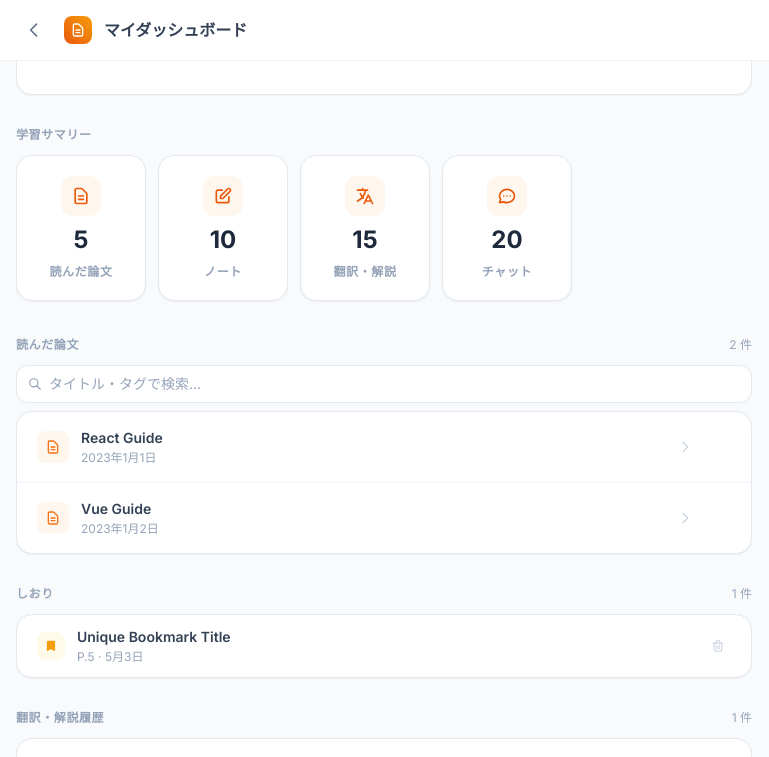
it: Dashboard Page › filters papers based on search input
(page scrolled)
Expected: the text "React Guide" is shown, [81, 429, 163, 446]
Expected: the text "Vue Guide" is shown, [81, 500, 151, 517]
In the field with placeholder "タイトル・タグで検索...": (384, 384) [16, 365, 752, 403], type "React"
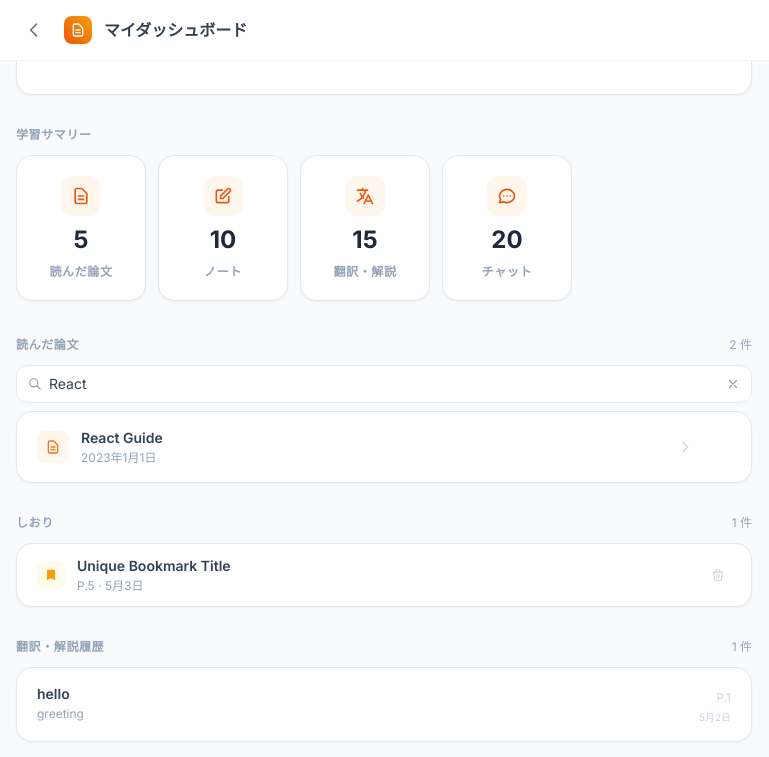
Expected: the text "React Guide" is shown, [81, 429, 163, 446]
Now the button "Vue Guide" is gone
